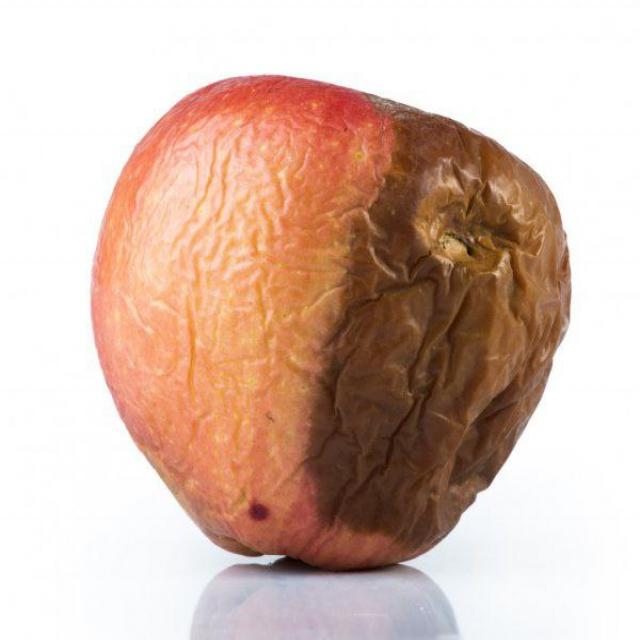Rotten: (85, 69, 577, 574)
